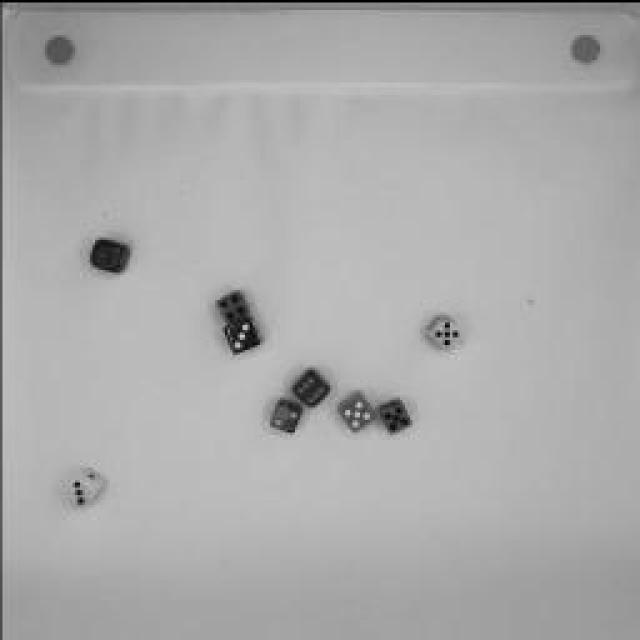dice_1: (82, 232, 136, 280)
dice_2: (264, 394, 306, 434)
dice_3: (59, 461, 106, 514), (220, 313, 260, 355)
dice_4: (212, 285, 252, 325)
dice_5: (421, 309, 469, 351), (338, 388, 378, 432), (380, 395, 412, 430)
dice_6: (288, 365, 332, 410)
